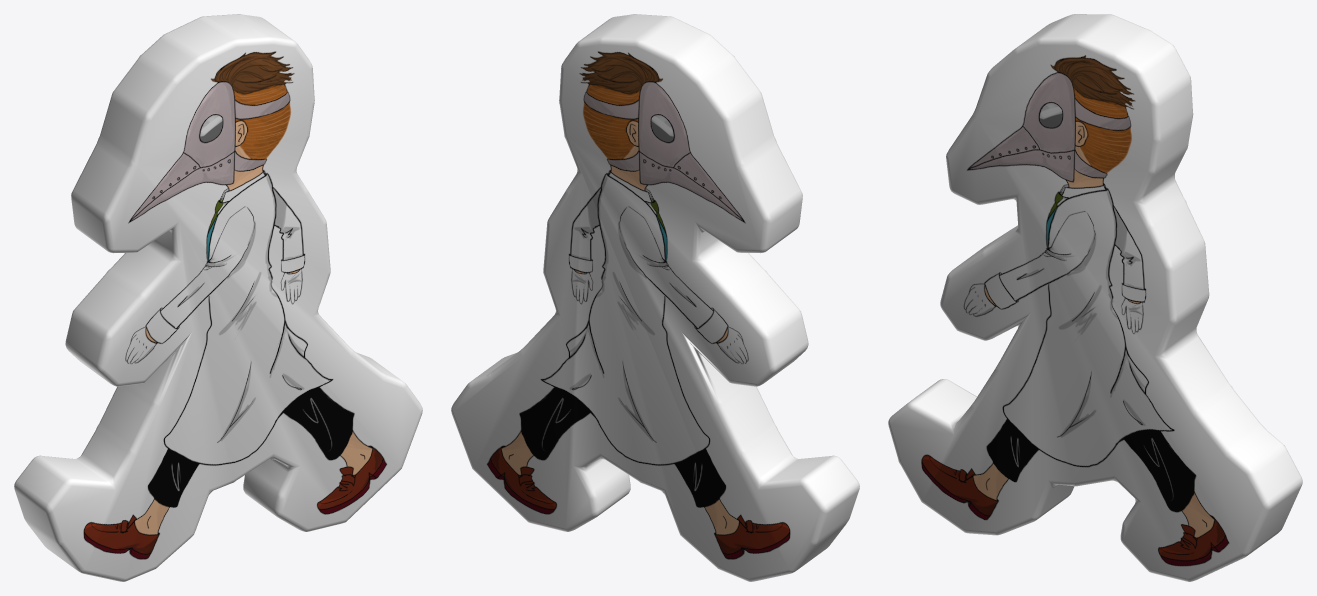
The model's file is DrBird.fbx.
3 views of the same model, side by side, from view 1: azimuth 30°, elevation 25°; view 2: azimuth 150°, elevation 25°; view 3: azimuth 330°, elevation 25° (orthographic).
Visible parts, largest first — view 1: Plane; view 2: Plane; view 3: Plane.
Boxes of the visible parts, <box> form: Plane: <box>14,14,422,581</box>; Plane: <box>451,14,859,581</box>; Plane: <box>888,14,1302,581</box>.
Bounding box in the file's own units: 1323 × 1726 × 223.
